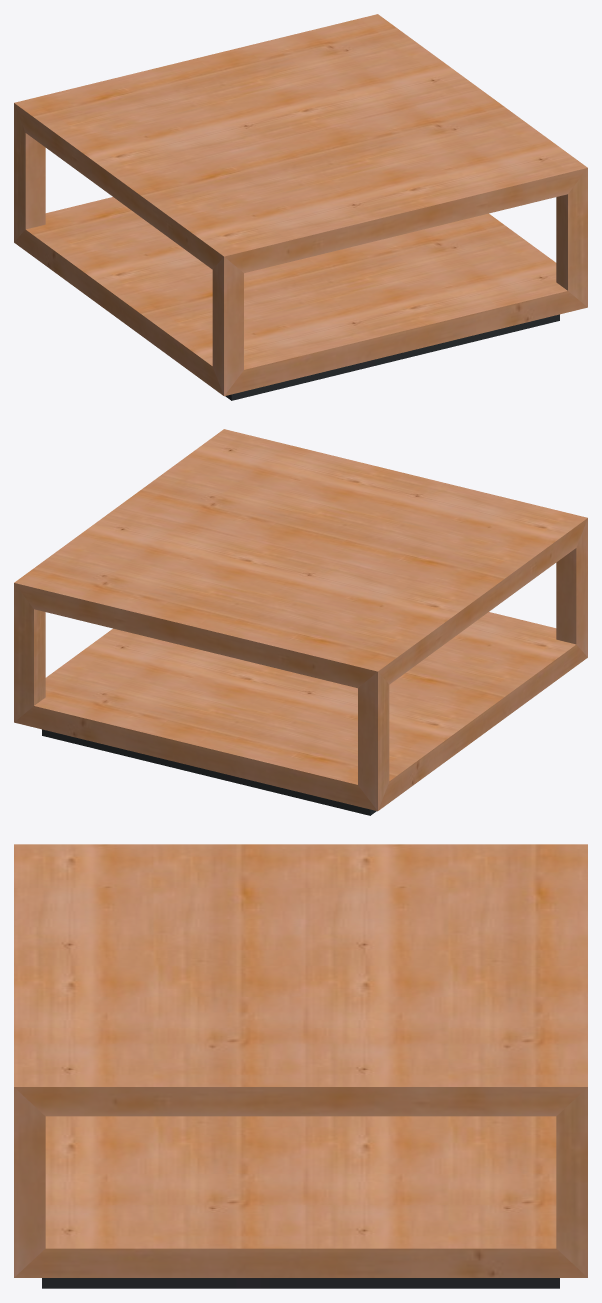
File: Table_23.glb
3 renders of one model, top to bottom at view 1: azimuth 30°, elevation 25°; view 2: azimuth 150°, elevation 25°; view 3: azimuth 270°, elevation 25°, orthographic. The views are drawn at different scales.
Visible parts, largest first — view 1: Table_23; view 2: Table_23; view 3: Table_23.
Part boxes in pixels (bbox=[...]): Table_23: bbox=[14, 14, 587, 400]; Table_23: bbox=[14, 429, 587, 815]; Table_23: bbox=[14, 844, 587, 1288].
Size of the model in its own units: 1.33 by 0.5467 by 1.33.
2 materials, 2 textured.
